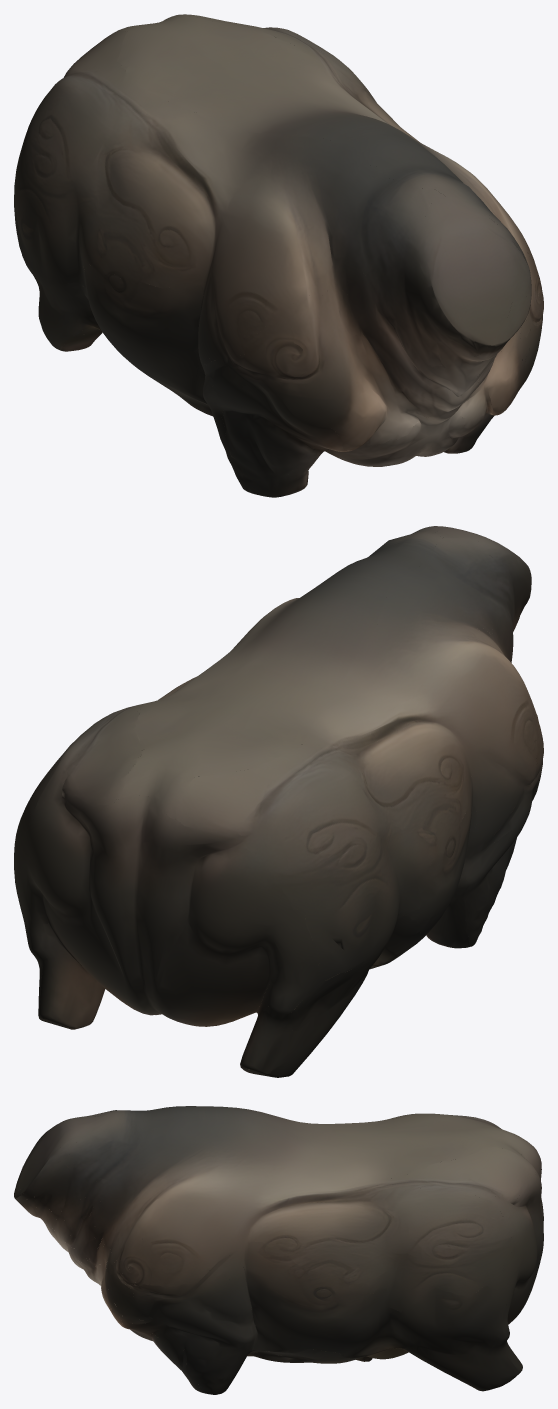
Rendered from niushen_game.glb.
3 views of the same model, one above another, from view 1: azimuth 30°, elevation 25°; view 2: azimuth 150°, elevation 25°; view 3: azimuth 270°, elevation 25° (orthographic). The views are drawn at different scales.
Visible parts, largest first — view 1: node_0; view 2: node_0; view 3: node_0.
Boxes of the visible parts, left/top/right/bottom form: node_0: left=14, top=14, right=543, bottom=497; node_0: left=14, top=526, right=543, bottom=1077; node_0: left=14, top=1106, right=543, bottom=1394.
Size of the model in its own units: 0.6136 by 0.5916 by 1.14.
1 material, 1 textured.
